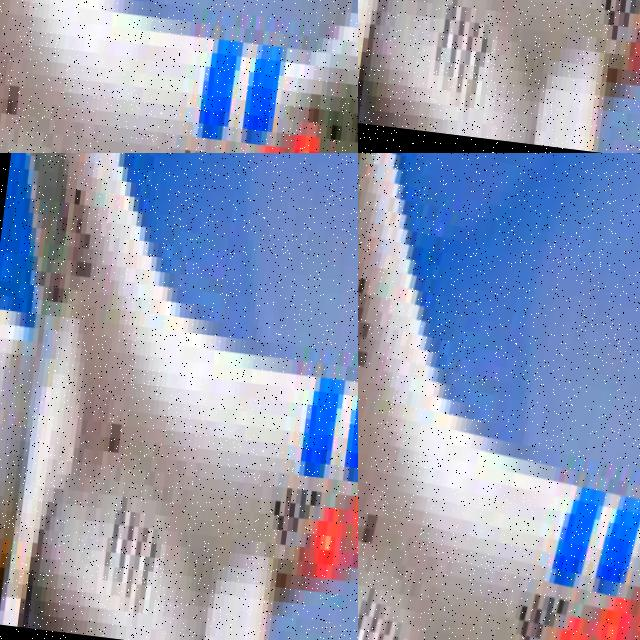drone: (358, 153, 640, 640)
